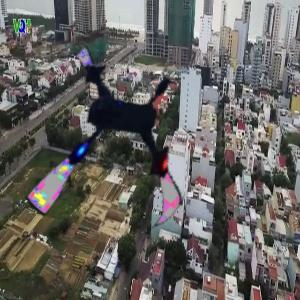drone: (15, 47, 217, 249)
